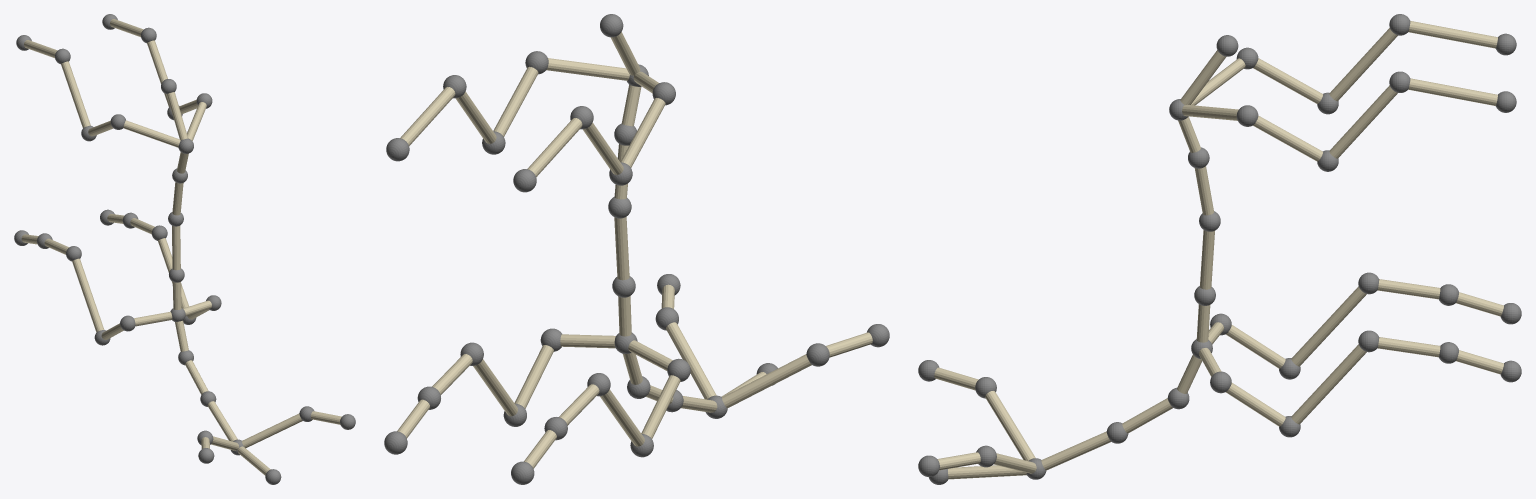
The picture shows the model from 3 angles, left to right: view 1: azimuth 30°, elevation 25°; view 2: azimuth 150°, elevation 25°; view 3: azimuth 270°, elevation 25°; orthographic projection. The views are drawn at different scales.
Parts seen in each view (by area): view 1: world; view 2: world; view 3: world.
Part boxes in pixels (box(x1,y1,x2,y2)): world: box(14, 14, 355, 484); world: box(384, 14, 889, 484); world: box(918, 14, 1521, 484).
Size of the model in its own units: 0.3385 by 0.682 by 0.8319.
